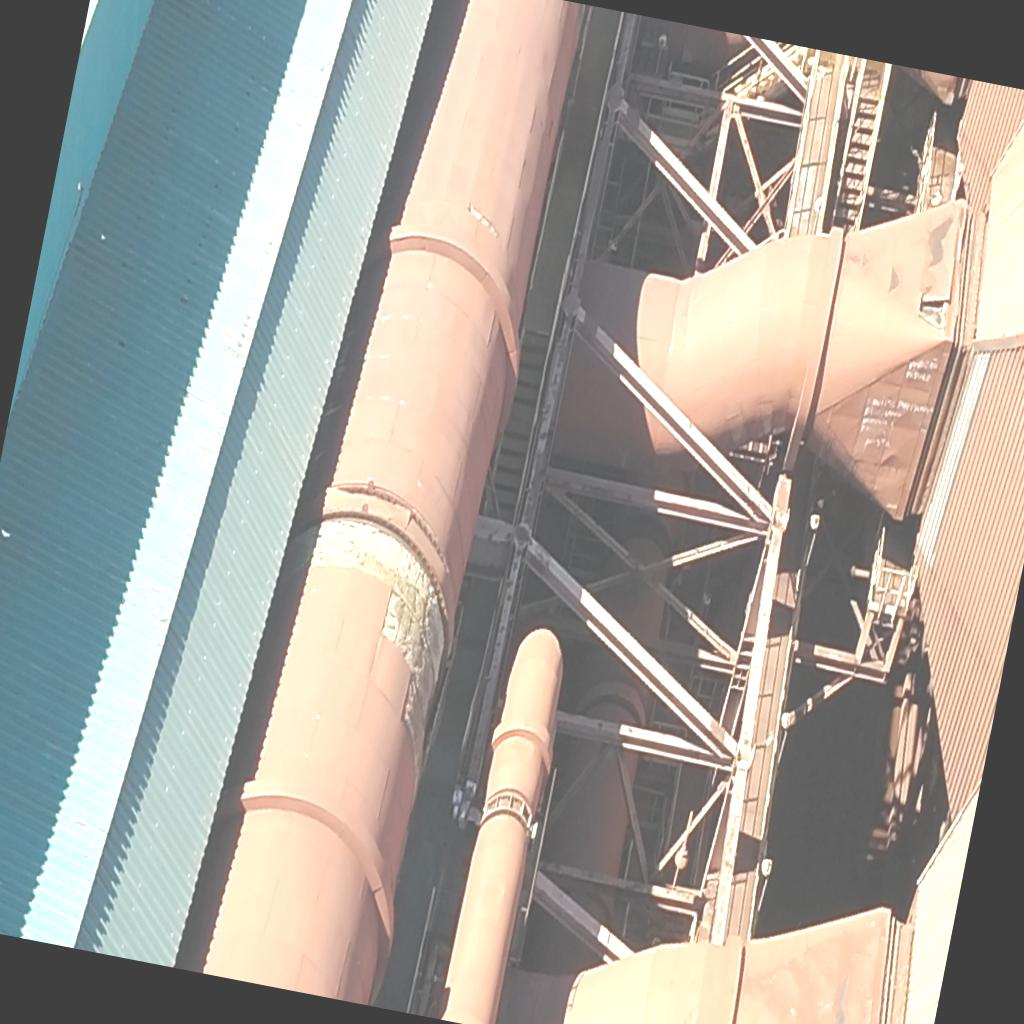Failures: (261, 506, 471, 739), (912, 282, 954, 338)
